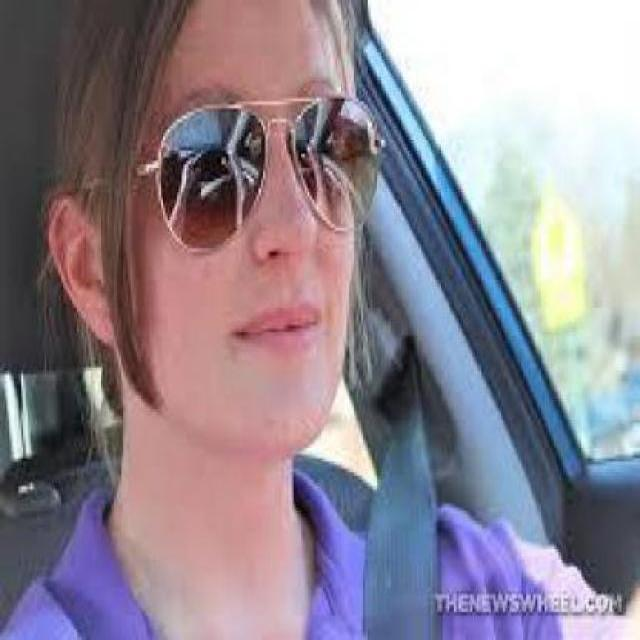seatbelt: (77, 342, 463, 640)
